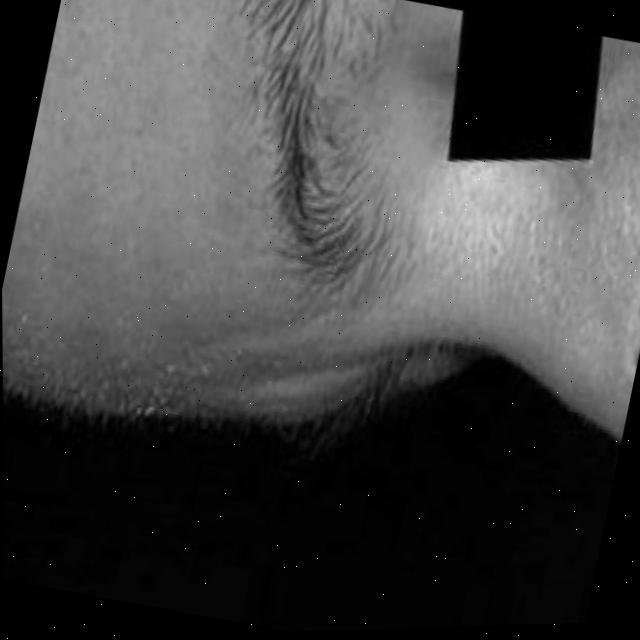Rosacea: (1, 61, 272, 388)
